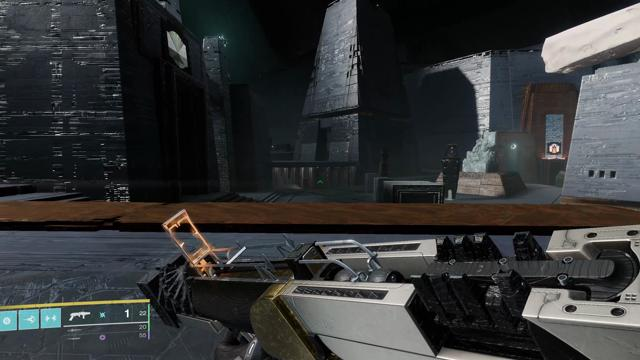commune: (167, 31, 188, 69)
worship: (549, 143, 559, 153)
